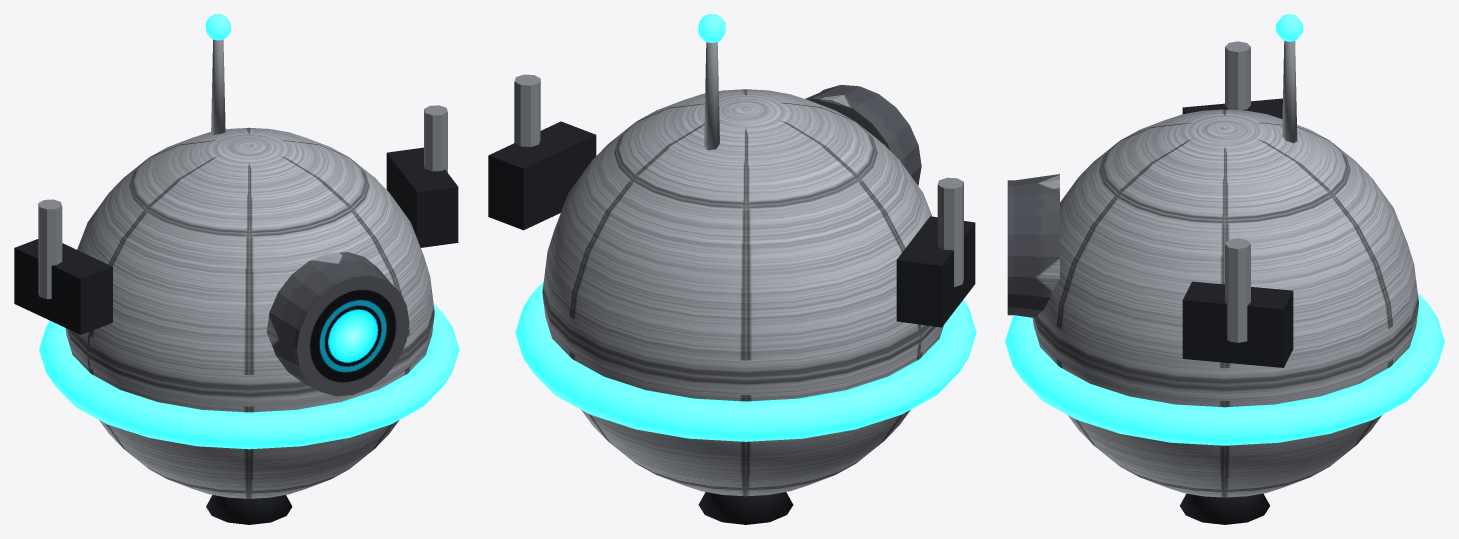
The model's file is CHAR_Sentinel.glb.
3 views of the same model, side by side, from view 1: azimuth 30°, elevation 25°; view 2: azimuth 150°, elevation 25°; view 3: azimuth 270°, elevation 25° (orthographic). The views are drawn at different scales.
Parts seen in each view (by area): view 1: CHAR_Sentinel; view 2: CHAR_Sentinel; view 3: CHAR_Sentinel.
Part boxes in pixels (<box>): CHAR_Sentinel: <box>14,14,459,524</box>; CHAR_Sentinel: <box>488,14,976,524</box>; CHAR_Sentinel: <box>1005,14,1444,524</box>.
Size of the model in its own units: 0.7717 by 0.837 by 0.68.
Materials: 1 (1 with a texture image).
